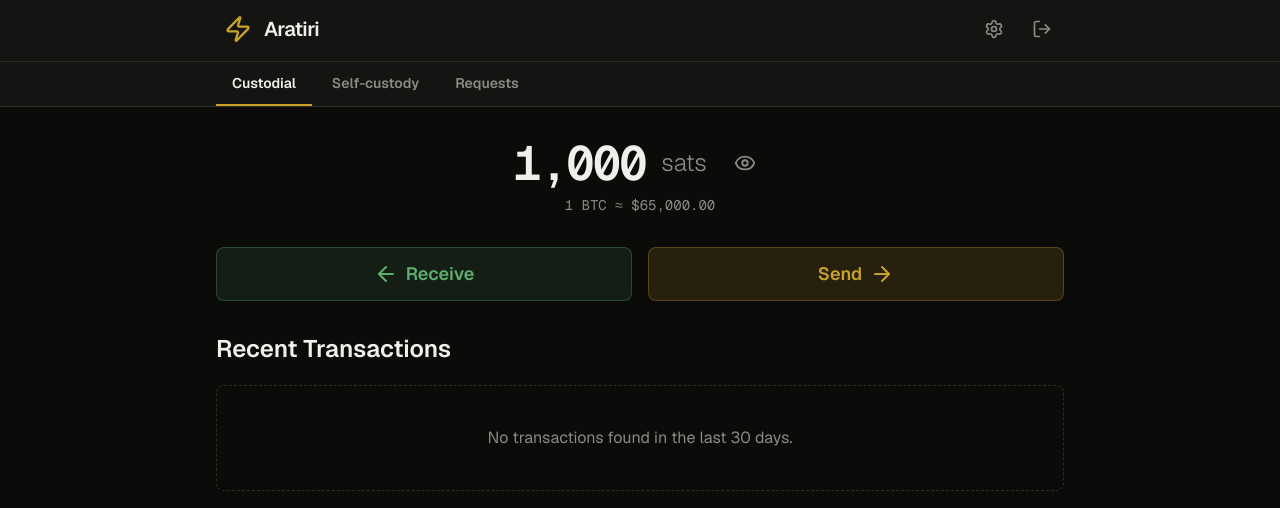
it: Request Center authenticated flows › lists requests with status, amount, memo and supports pagination
Click the button "Requests": (487, 84) [439,62,535,106]
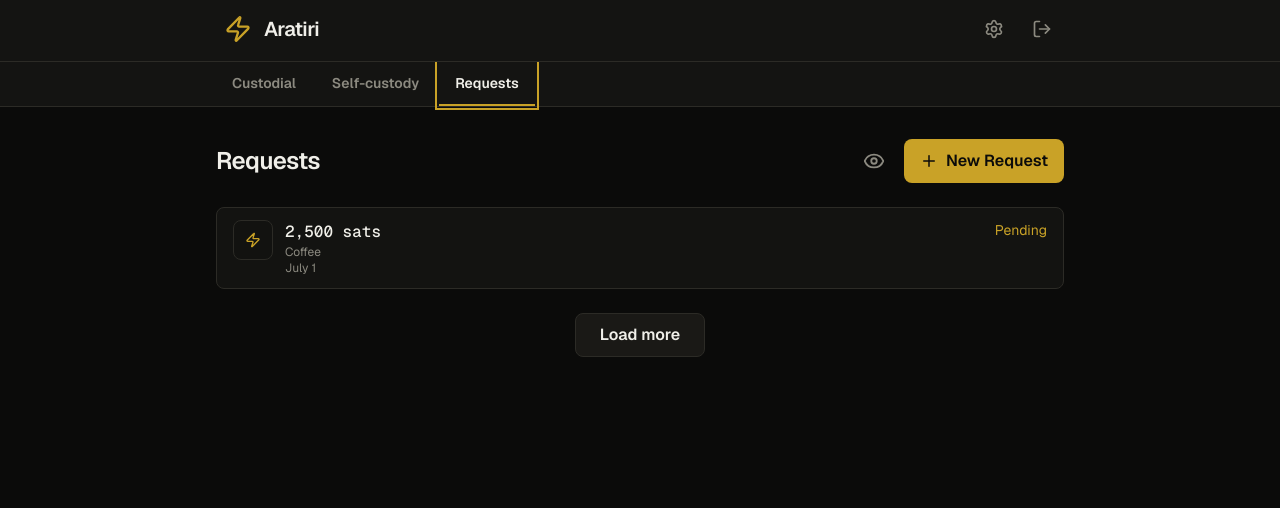
Check: the heading "Requests" is shown, box [216,145,320,177]
Check: the text "2,500 sats" is shown, box [285,220,381,244]
Check: the text "Coffee" is shown, box [285,244,321,260]
Click the button "Load more": (640, 335) [575,313,705,357]
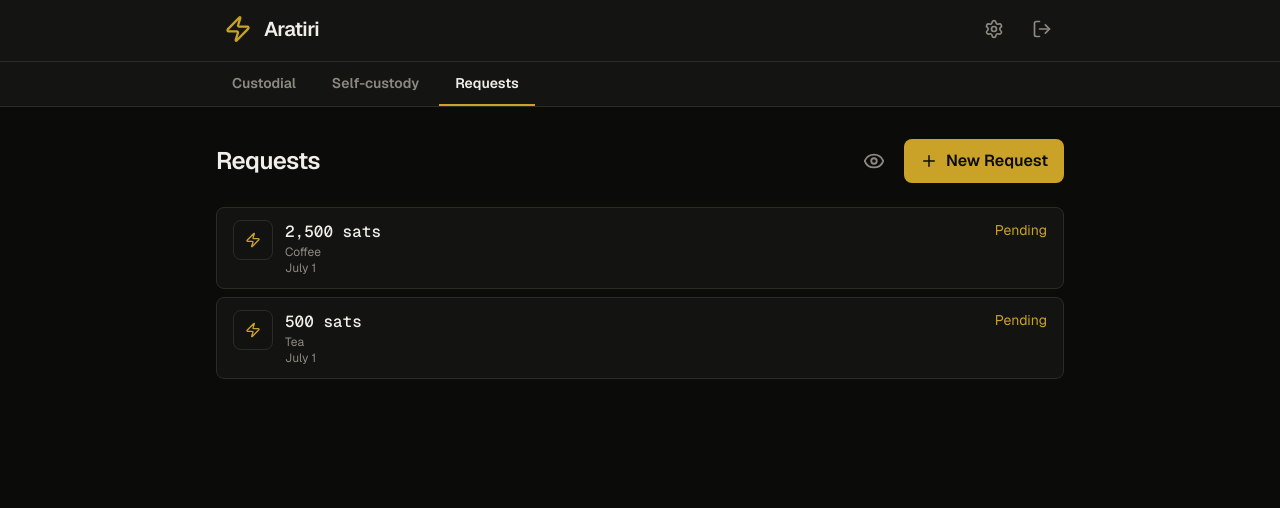
Check: the text "Tea" is shown, box [285,334,304,350]
Check: the text "500 sats" is shown, box [285,310,362,334]
